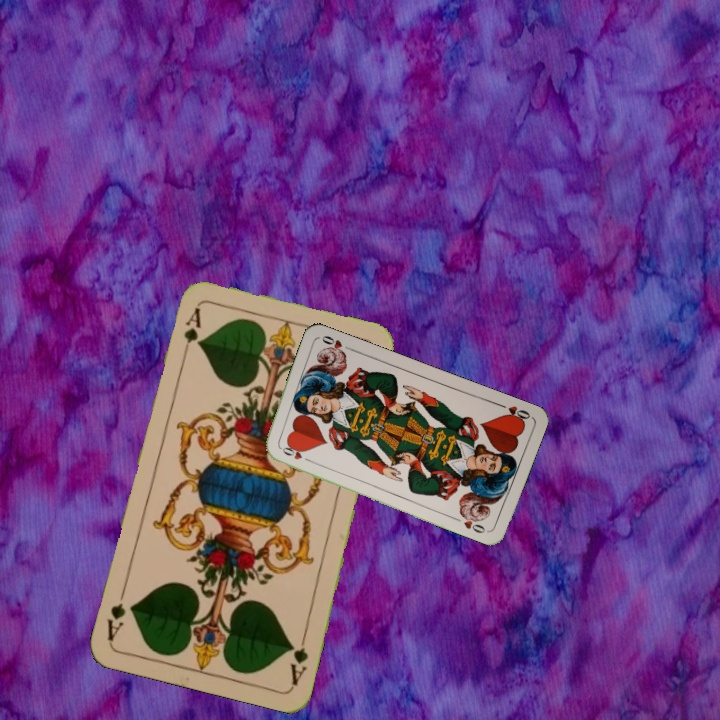GA: (285, 629, 311, 688), (178, 303, 204, 361)
HO: (494, 400, 533, 425), (276, 443, 315, 465)
